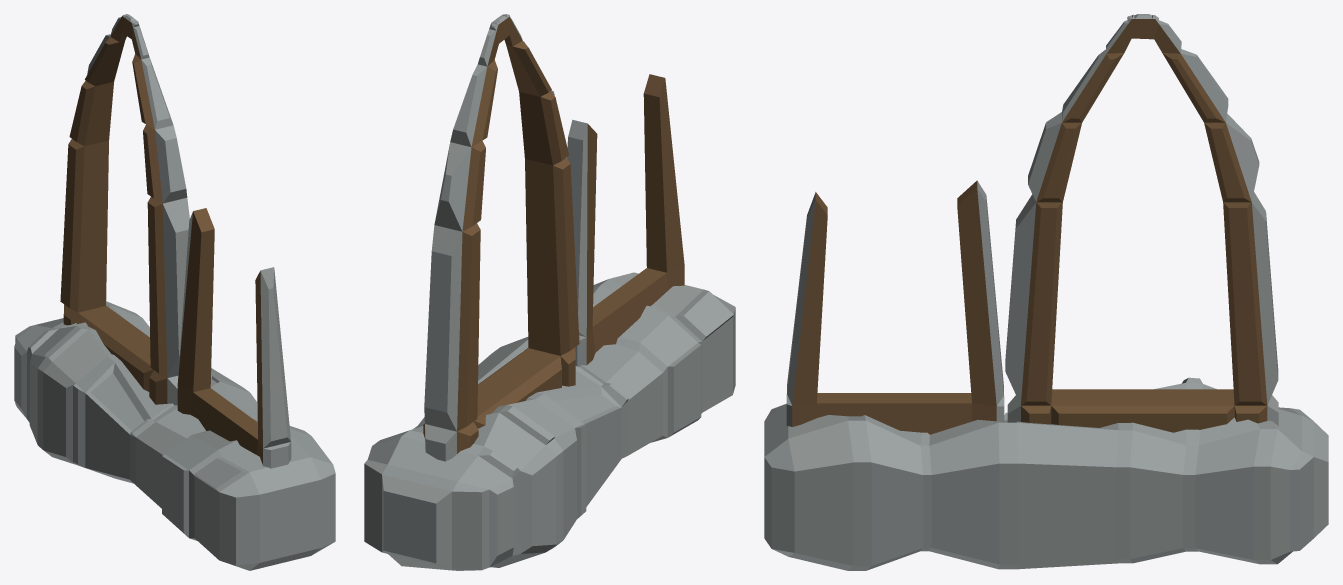
Rendered from Ruins Mat.fbx.
3 views of the same model, side by side, from view 1: azimuth 30°, elevation 25°; view 2: azimuth 150°, elevation 25°; view 3: azimuth 270°, elevation 25° (orthographic). The views are drawn at different scales.
Parts seen in each view (by area): view 1: Ruins; view 2: Ruins; view 3: Ruins.
Boxes of the visible parts, x1,y1,x2,y2 form: Ruins: [14, 14, 335, 570]; Ruins: [364, 14, 735, 570]; Ruins: [764, 14, 1328, 570].
Size of the model in its own units: 866 by 278 by 926.
